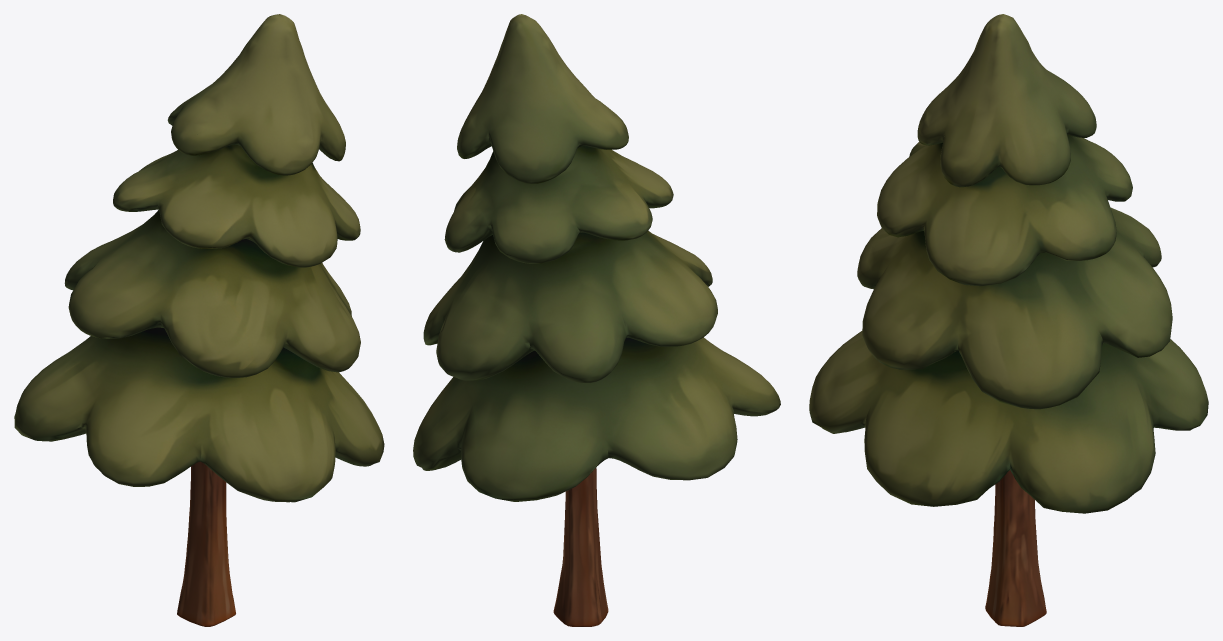
The picture shows the model from 3 angles, left to right: view 1: azimuth 30°, elevation 25°; view 2: azimuth 150°, elevation 25°; view 3: azimuth 270°, elevation 25°; orthographic projection. The views are drawn at different scales.
Parts seen in each view (by area): view 1: tripo_node_b35b2b7c; view 2: tripo_node_b35b2b7c; view 3: tripo_node_b35b2b7c.
Part boxes in pixels (<box>): tripo_node_b35b2b7c: <box>14,14,384,626</box>; tripo_node_b35b2b7c: <box>413,14,780,626</box>; tripo_node_b35b2b7c: <box>809,14,1208,626</box>.
Bounding box in the file's own units: 0.5454 × 0.9995 × 0.5698.
Materials: 1 (1 with a texture image).
